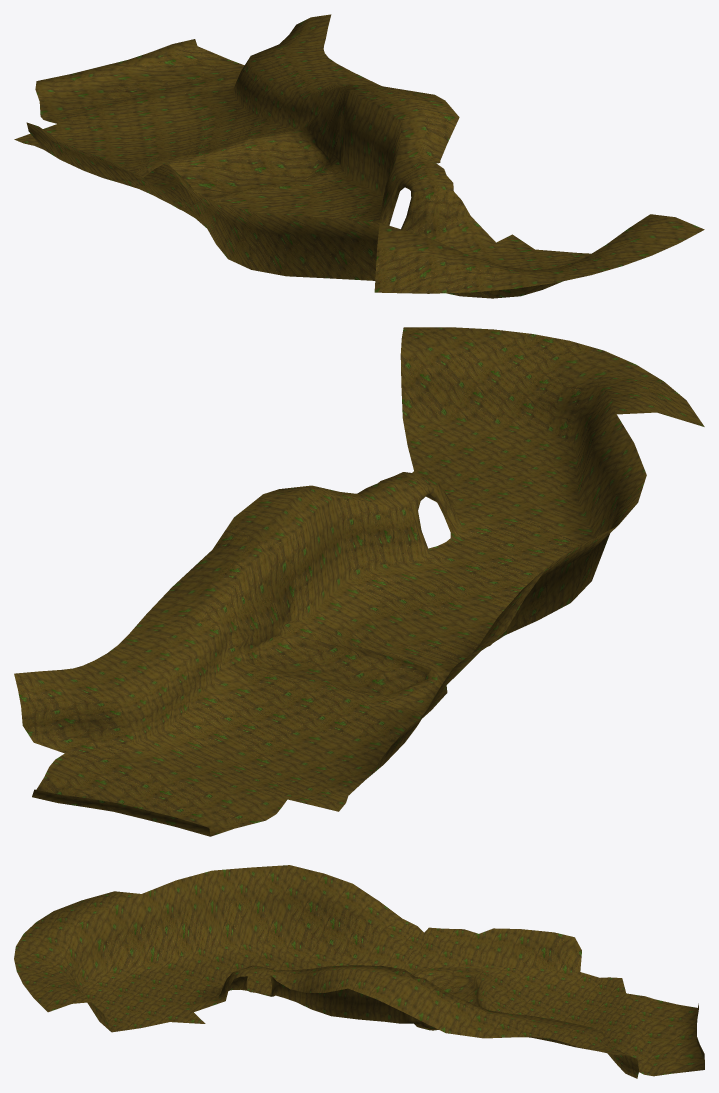
Rendered from MIRKWOOD_AREA0-1.fbx.
3 renders of one model, top to bottom at view 1: azimuth 30°, elevation 25°; view 2: azimuth 150°, elevation 25°; view 3: azimuth 270°, elevation 25°, orthographic. The views are drawn at different scales.
Parts seen in each view (by area): view 1: MIRKWOOD_AREA0-1; view 2: MIRKWOOD_AREA0-1; view 3: MIRKWOOD_AREA0-1.
Part boxes in pixels (box(x1,y1,x2,y2)): MIRKWOOD_AREA0-1: box(14, 14, 704, 298); MIRKWOOD_AREA0-1: box(14, 327, 704, 836); MIRKWOOD_AREA0-1: box(14, 865, 704, 1078).
Size of the model in its own units: 421606 by 154748 by 911285.
Materials: 1 (1 with a texture image).
